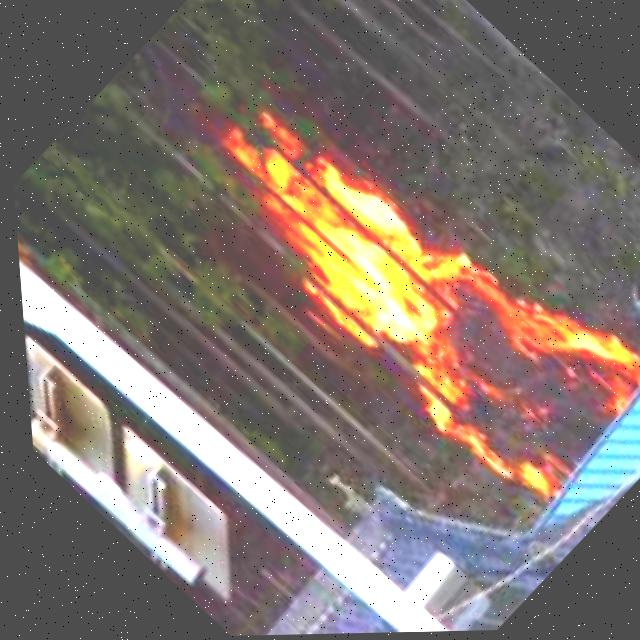Fire: (191, 58, 640, 511)
